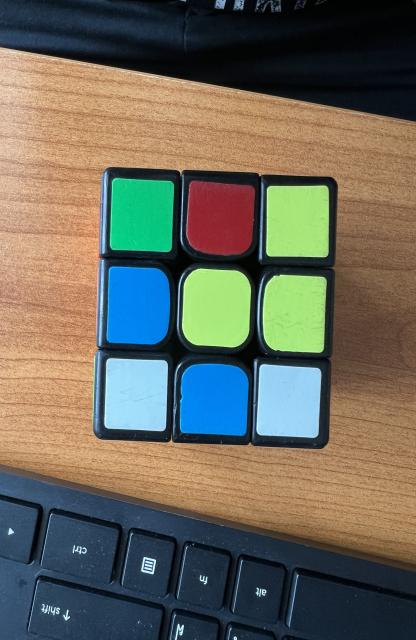Blue: (106, 266, 170, 344), (180, 364, 249, 436)
Green: (109, 178, 174, 252)
Red: (186, 180, 256, 255)
White: (257, 364, 322, 438), (104, 358, 168, 431)
Yellow: (182, 269, 251, 348), (262, 275, 327, 352), (266, 185, 329, 258)
